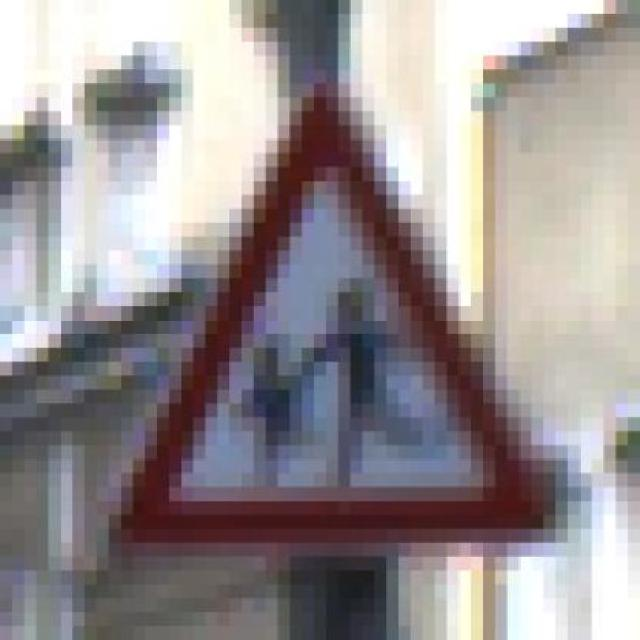Beware of children: (109, 83, 556, 543)
